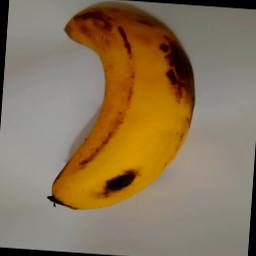Banana Unripe: (39, 0, 204, 221)
